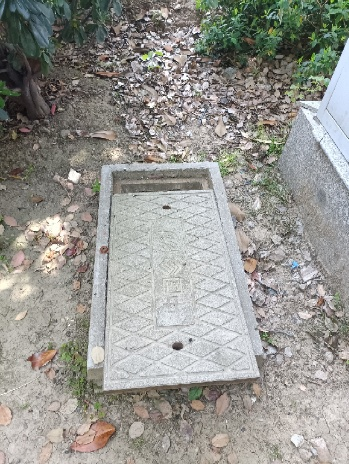uncovered: (86, 159, 266, 390)
